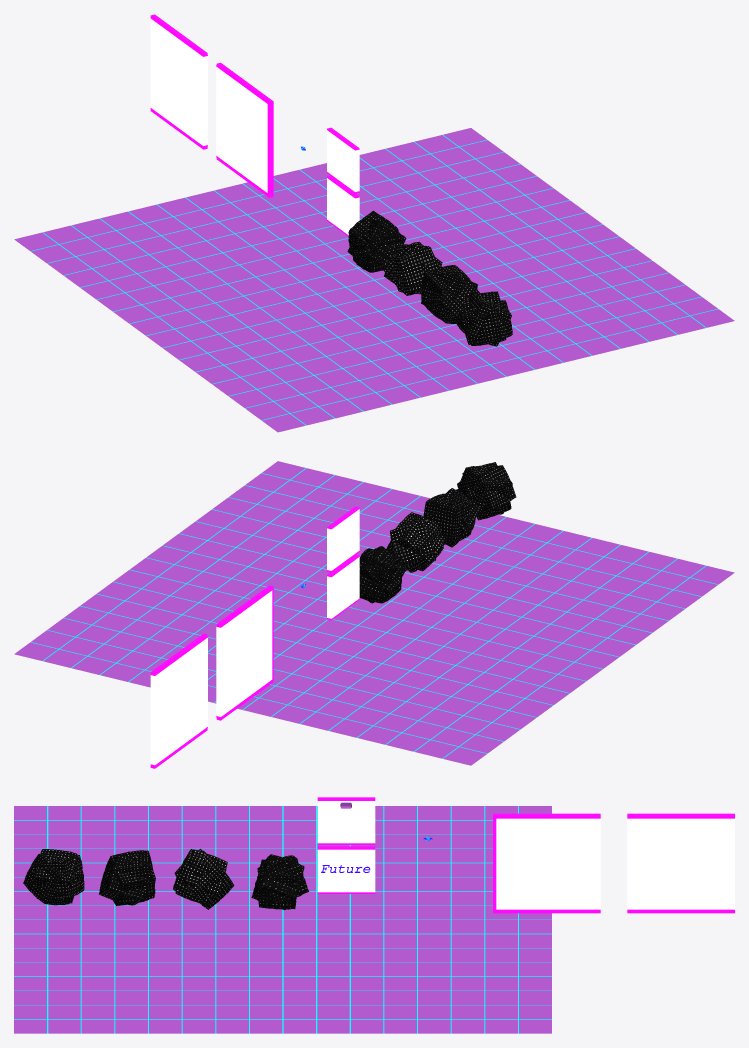
The model's file is Vrrrrrrr.fbx.
The picture shows the model from 3 angles, top to bottom: view 1: azimuth 30°, elevation 25°; view 2: azimuth 150°, elevation 25°; view 3: azimuth 270°, elevation 25°; orthographic projection.
Visible parts, largest first — view 1: Plane, Cube, Cube.001, Cube.006, Cube.003, Cube.005, Cube.004, Cube.007, Cube.002; view 2: Plane, Cube, Cube.001, Cube.004, Cube.006, Cube.003, Cube.005, Cube.007, Cube.002; view 3: Plane, Cube, Cube.001, Cube.007, Cube.002, Cube.006, Cube.005, Cube.004, Cube.003.
Part boxes in pixels (x1,y1,x2,y2): Plane: [14, 128, 734, 432]; Cube: [150, 14, 207, 149]; Cube.001: [216, 62, 273, 197]; Cube.006: [456, 291, 512, 346]; Cube.003: [347, 210, 406, 272]; Cube.005: [421, 265, 479, 323]; Cube.004: [383, 241, 442, 295]; Cube.007: [327, 127, 359, 193]; Cube.002: [327, 175, 359, 236]; Plane: [14, 461, 734, 765]; Cube: [150, 633, 207, 768]; Cube.001: [216, 585, 273, 720]; Cube.004: [386, 512, 445, 572]; Cube.006: [457, 462, 516, 520]; Cube.003: [359, 546, 406, 603]; Cube.005: [423, 488, 480, 547]; Cube.007: [327, 506, 359, 572]; Cube.002: [327, 554, 359, 620]; Plane: [14, 806, 551, 1033]; Cube: [627, 813, 734, 913]; Cube.001: [493, 813, 600, 913]; Cube.007: [317, 797, 375, 844]; Cube.002: [317, 846, 375, 893]; Cube.006: [23, 849, 84, 905]; Cube.005: [99, 850, 155, 905]; Cube.004: [173, 849, 234, 909]; Cube.003: [251, 854, 308, 909].
Bounding box in the file's own units: 3000 × 746 × 4020.
